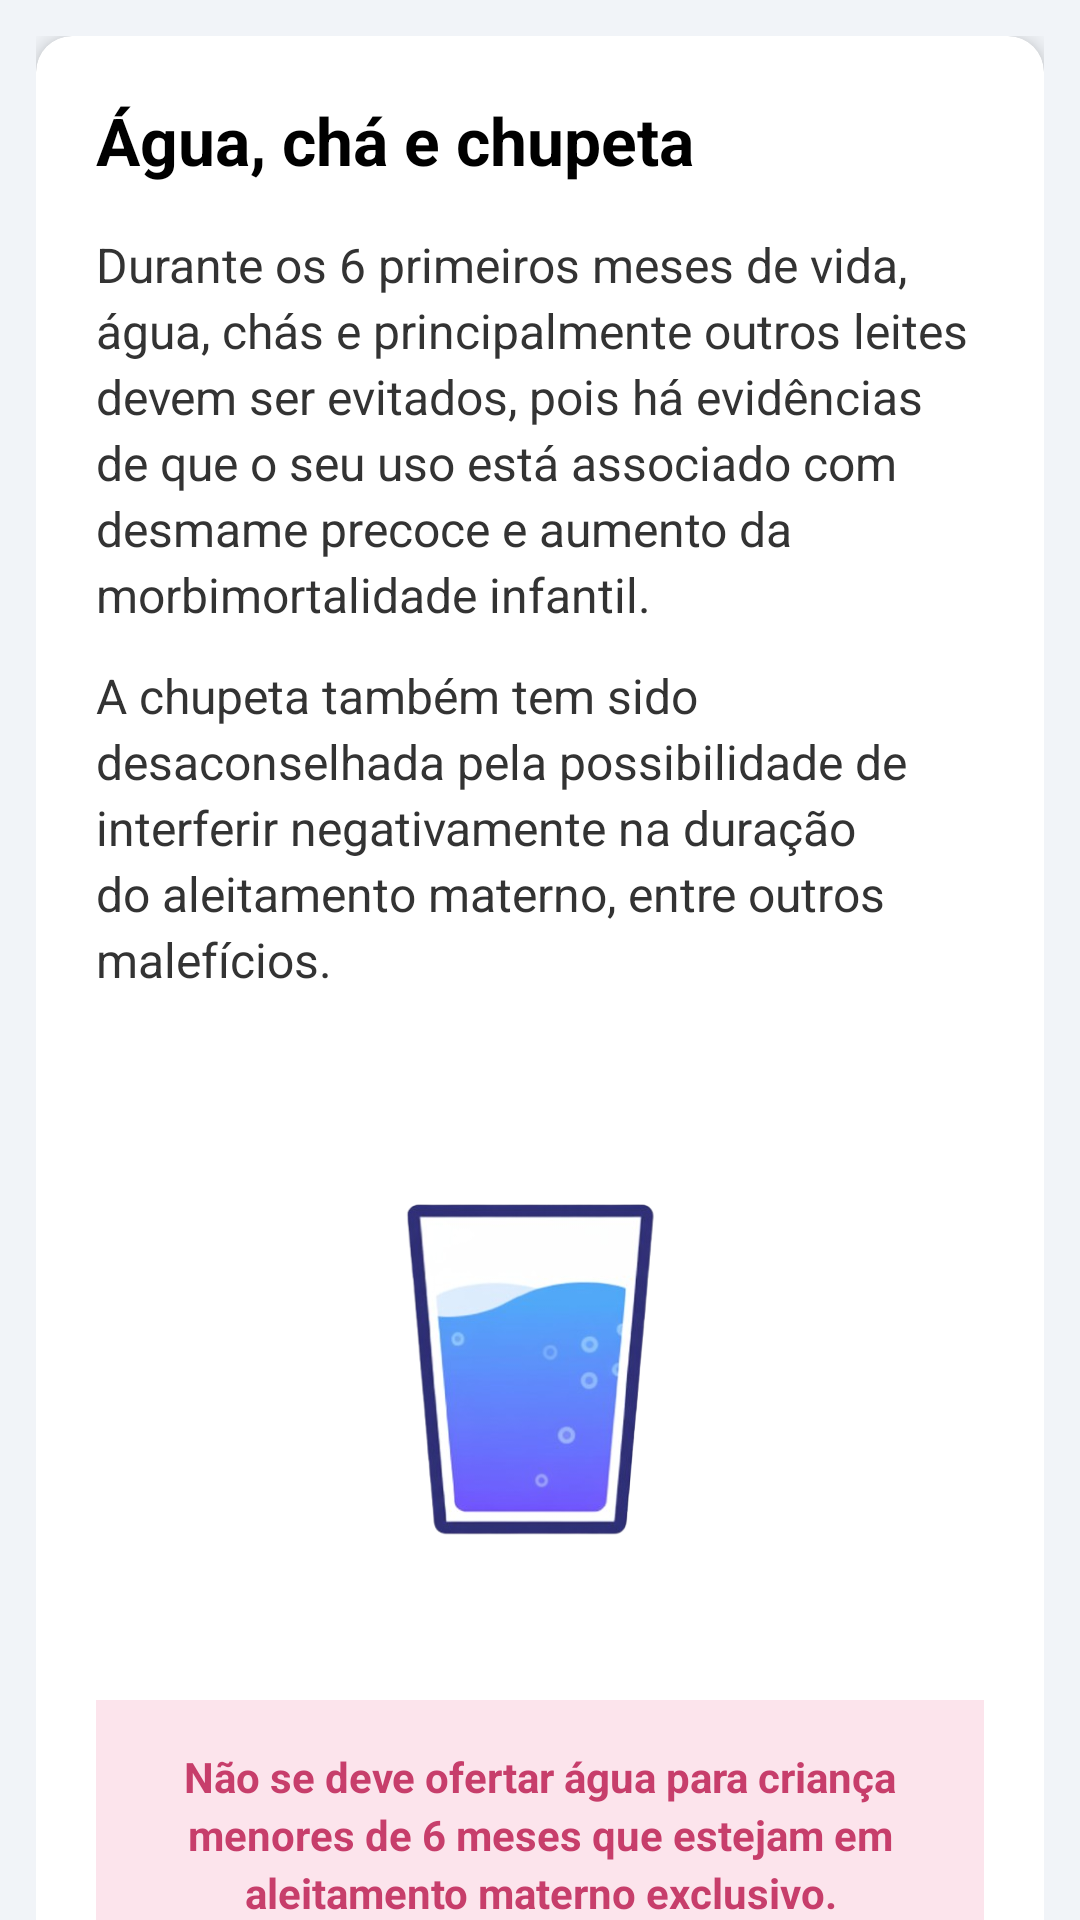

Where icons sit on this 1080 x 1920 app screen, as (x1, y1, x2, y2):
Ilustração de um copo de água: (407, 1204, 654, 1535)
